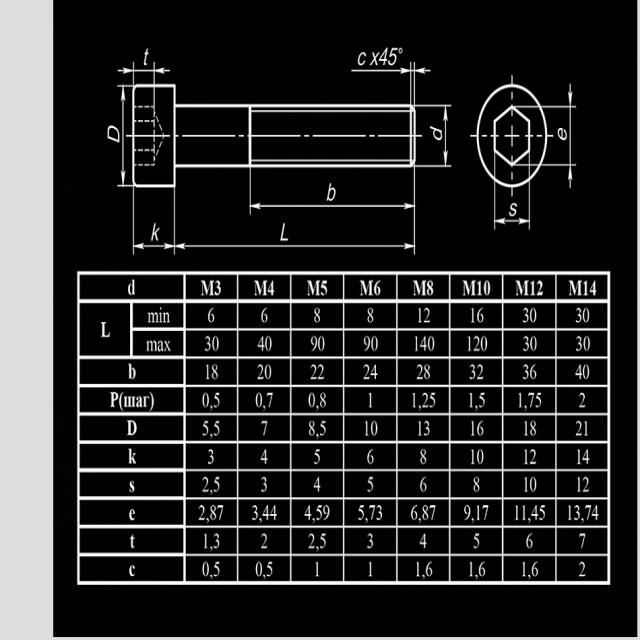marking_line: (176, 240, 414, 253), (252, 203, 412, 211), (119, 90, 129, 185), (350, 66, 409, 80), (135, 242, 174, 254), (442, 107, 450, 165), (496, 218, 530, 227), (565, 81, 577, 104), (156, 64, 173, 79), (566, 168, 577, 190), (116, 63, 134, 75), (416, 66, 434, 74)
numeric: (513, 501, 551, 526), (408, 501, 443, 526), (567, 503, 603, 524), (408, 388, 441, 409), (249, 502, 280, 524), (355, 503, 386, 524), (306, 503, 334, 526), (462, 504, 492, 525), (518, 390, 547, 411), (466, 334, 494, 355), (198, 391, 226, 411), (521, 533, 545, 556), (306, 389, 331, 411), (197, 505, 229, 522), (306, 532, 333, 552), (378, 47, 402, 69), (201, 417, 225, 439), (571, 359, 596, 380), (252, 390, 277, 411), (467, 359, 488, 384), (413, 334, 440, 353), (202, 473, 225, 495), (414, 558, 435, 582), (574, 305, 595, 328), (573, 332, 593, 356), (201, 561, 225, 581), (200, 531, 224, 551), (466, 559, 490, 579), (308, 418, 329, 440), (521, 331, 541, 354), (363, 415, 383, 438), (520, 306, 541, 327), (572, 417, 592, 439), (307, 362, 329, 382), (414, 417, 434, 439), (253, 560, 276, 579), (363, 359, 380, 384), (520, 364, 540, 385), (521, 475, 541, 496), (468, 389, 487, 411), (521, 563, 544, 581), (521, 446, 538, 470), (416, 360, 436, 380), (256, 305, 274, 327), (361, 332, 379, 354), (470, 306, 489, 326), (466, 446, 485, 466), (204, 335, 222, 356), (255, 336, 276, 354), (310, 334, 328, 355), (522, 417, 540, 438), (255, 362, 275, 380), (575, 475, 593, 493), (468, 419, 486, 437), (204, 362, 218, 385), (204, 307, 220, 327), (469, 473, 483, 495), (576, 449, 595, 465), (416, 305, 431, 325), (311, 474, 326, 494), (361, 306, 377, 324), (309, 305, 323, 325), (416, 532, 430, 552), (258, 447, 272, 466), (257, 474, 271, 493), (470, 533, 484, 552), (577, 388, 589, 410), (366, 388, 377, 411), (575, 560, 589, 578), (364, 474, 376, 495), (207, 448, 219, 468), (312, 446, 324, 466), (259, 531, 271, 550), (259, 419, 272, 436), (366, 447, 377, 467), (365, 557, 375, 579), (578, 531, 590, 549), (314, 561, 325, 579), (366, 531, 375, 551), (419, 447, 428, 464), (419, 478, 428, 495)
